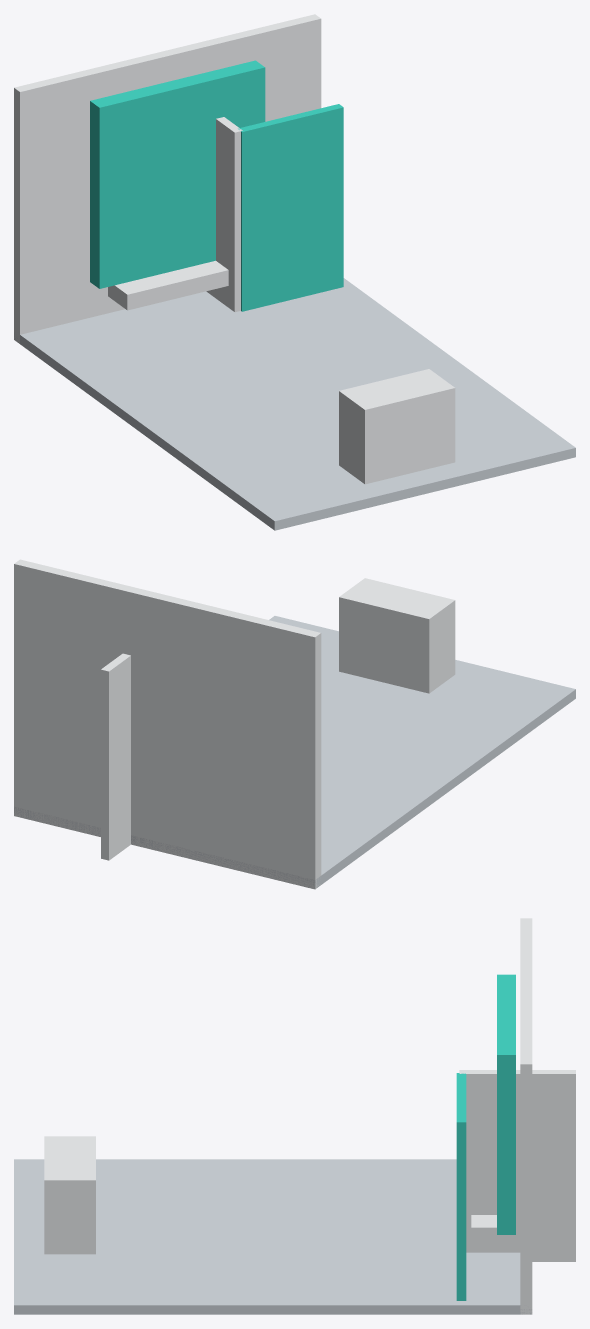
The picture shows the model from 3 angles, top to bottom: view 1: azimuth 30°, elevation 25°; view 2: azimuth 150°, elevation 25°; view 3: azimuth 270°, elevation 25°; orthographic projection.
Parts seen in each view (by area): view 1: Exhibition Booth Concept; view 2: Exhibition Booth Concept; view 3: Exhibition Booth Concept.
Part boxes in pixels (<box>): Exhibition Booth Concept: <box>14,14,575,530</box>; Exhibition Booth Concept: <box>14,559,575,889</box>; Exhibition Booth Concept: <box>14,918,575,1314</box>.
Size of the model in its own units: 4 by 3.2 by 6.51.
